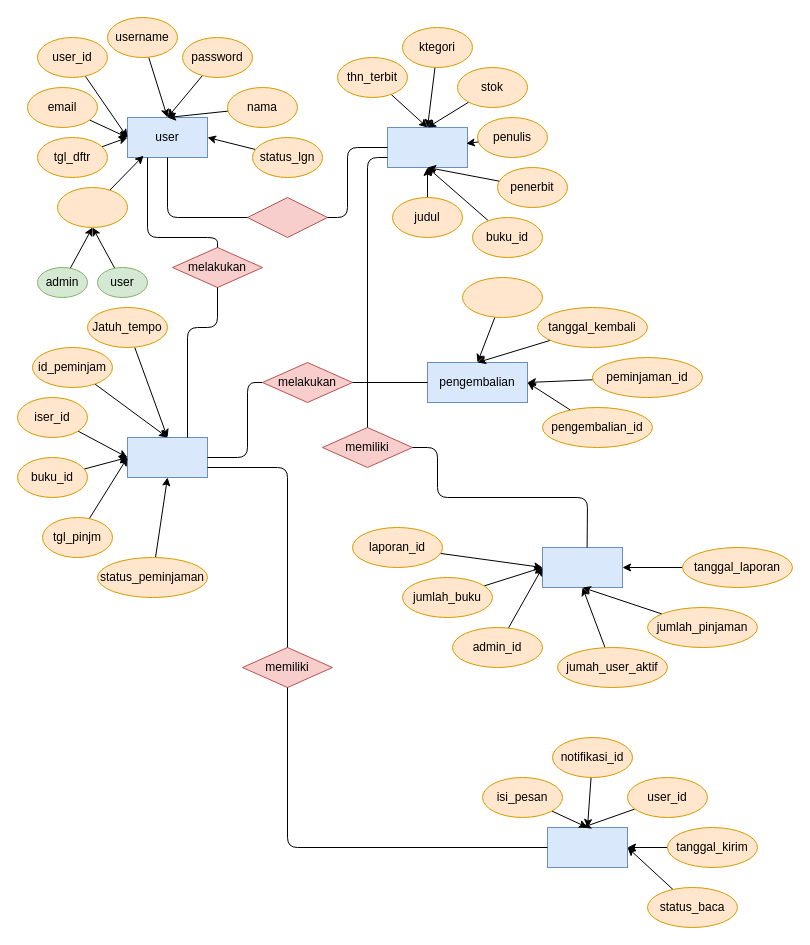
Some shapes in this 810 by 945 pixel diagram are drawn without their labels. The centre of each missing label's shape, as x and y in pixels:
buku: pixel 427 147
denda: pixel 502 297
laporan: pixel 582 567
mencari: pixel 287 217
notifikasi: pixel 587 847
peminjama: pixel 167 457
role: pixel 92 207
